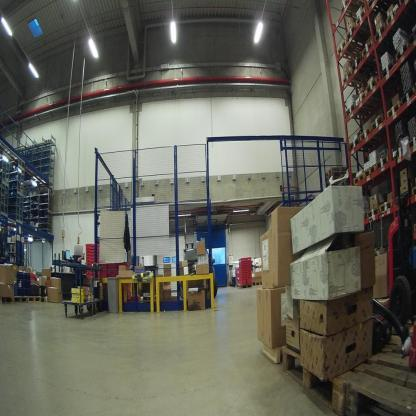pallets: (344, 116, 387, 152), (351, 153, 390, 191), (342, 79, 379, 115), (384, 88, 416, 122), (361, 199, 393, 224), (0, 294, 48, 303)
